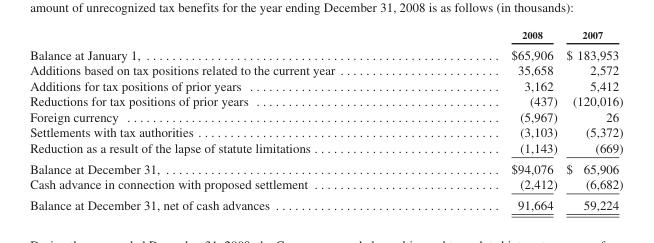table: (29, 28, 622, 211)
table column: (29, 28, 422, 211), (422, 28, 561, 211), (561, 28, 622, 211)
table column header: (29, 28, 622, 43)
table row: (29, 43, 622, 62), (29, 139, 622, 157), (29, 157, 622, 175), (29, 175, 622, 193), (29, 193, 622, 211), (29, 77, 622, 93), (29, 108, 622, 124), (29, 28, 622, 43), (29, 62, 622, 77), (29, 93, 622, 108), (29, 124, 622, 139)
